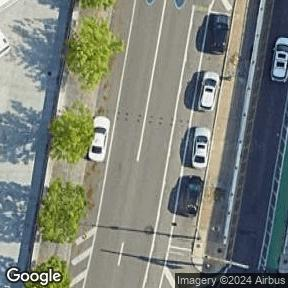vegetation: (51, 9, 131, 96), (41, 95, 104, 168), (33, 176, 93, 249), (25, 256, 69, 288), (82, 1, 113, 10)
